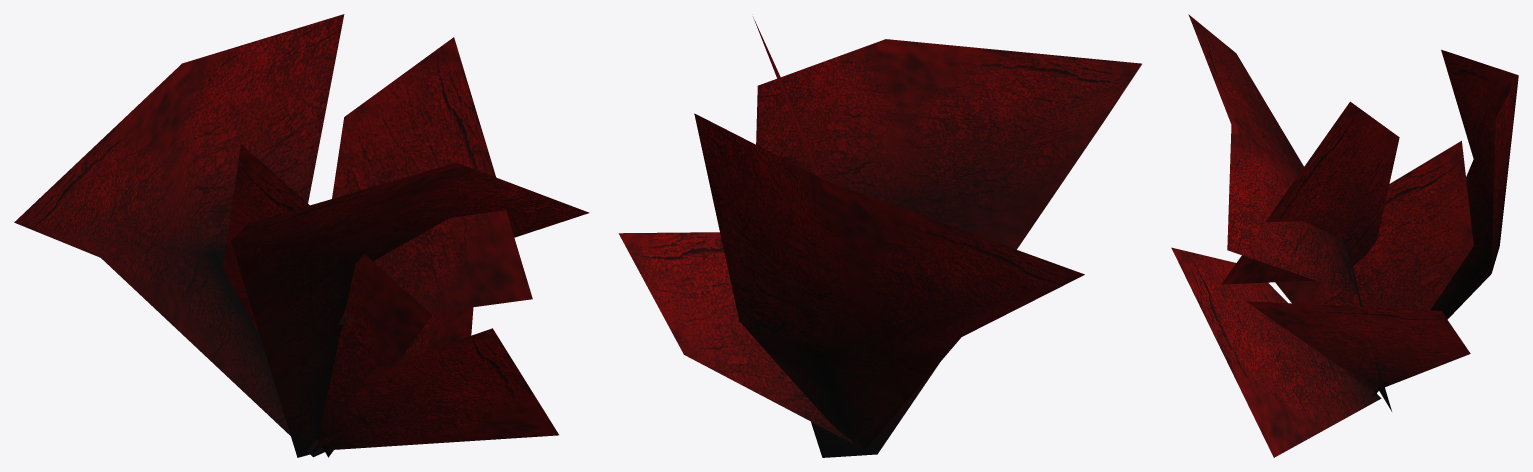
Rendered from TreeSmall2.glb.
3 views of the same model, side by side, from view 1: azimuth 30°, elevation 25°; view 2: azimuth 150°, elevation 25°; view 3: azimuth 270°, elevation 25° (orthographic). The views are drawn at different scales.
Parts seen in each view (by area): view 1: TreeSmall2; view 2: TreeSmall2; view 3: TreeSmall2.
Boxes of the visible parts, left/top/right/bottom form: TreeSmall2: left=14, top=14, right=589, bottom=457; TreeSmall2: left=618, top=17, right=1141, bottom=457; TreeSmall2: left=1171, top=14, right=1518, bottom=457.
Size of the model in its own units: 1.21 by 1 by 0.8963.
1 material, 1 textured.
